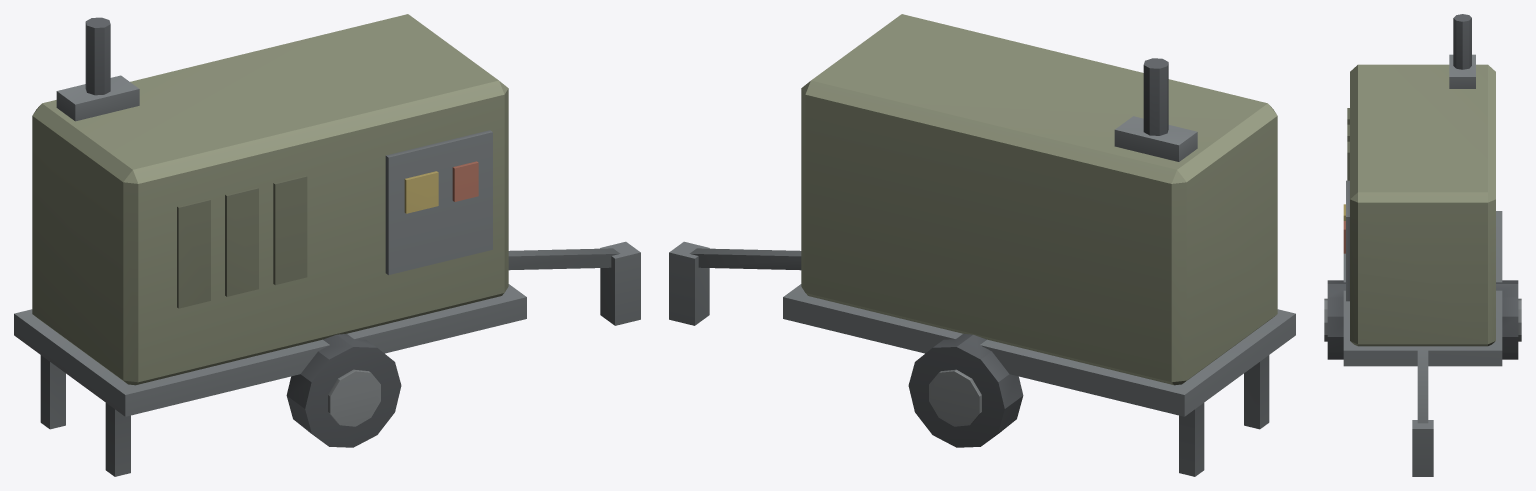
Rendered from mil_generator.glb.
The picture shows the model from 3 angles, left to right: view 1: azimuth 30°, elevation 25°; view 2: azimuth 150°, elevation 25°; view 3: azimuth 270°, elevation 25°; orthographic projection. The views are drawn at different scales.
Parts seen in each view (by area): view 1: mil_generator; view 2: mil_generator; view 3: mil_generator.
Part boxes in pixels (bbox=[...]): mil_generator: bbox=[14, 14, 640, 476]; mil_generator: bbox=[669, 14, 1295, 476]; mil_generator: bbox=[1324, 14, 1521, 476].
Size of the model in its own units: 3.51 by 2.35 by 1.49.
